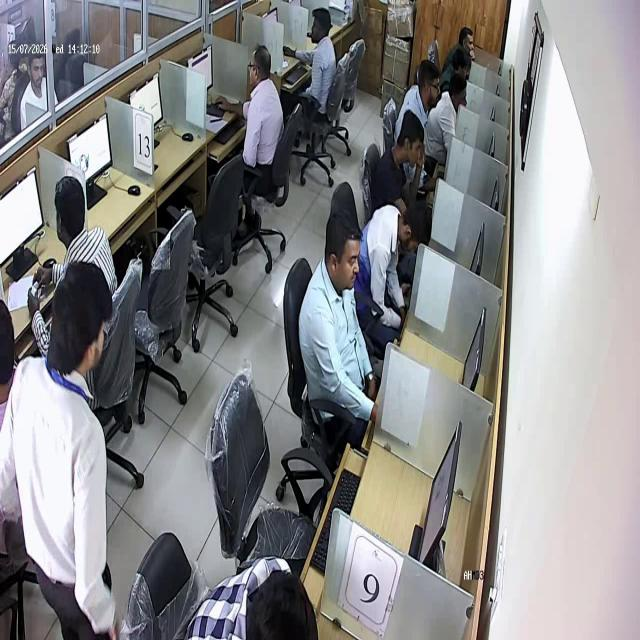paper-chit: (32, 279, 42, 297)
